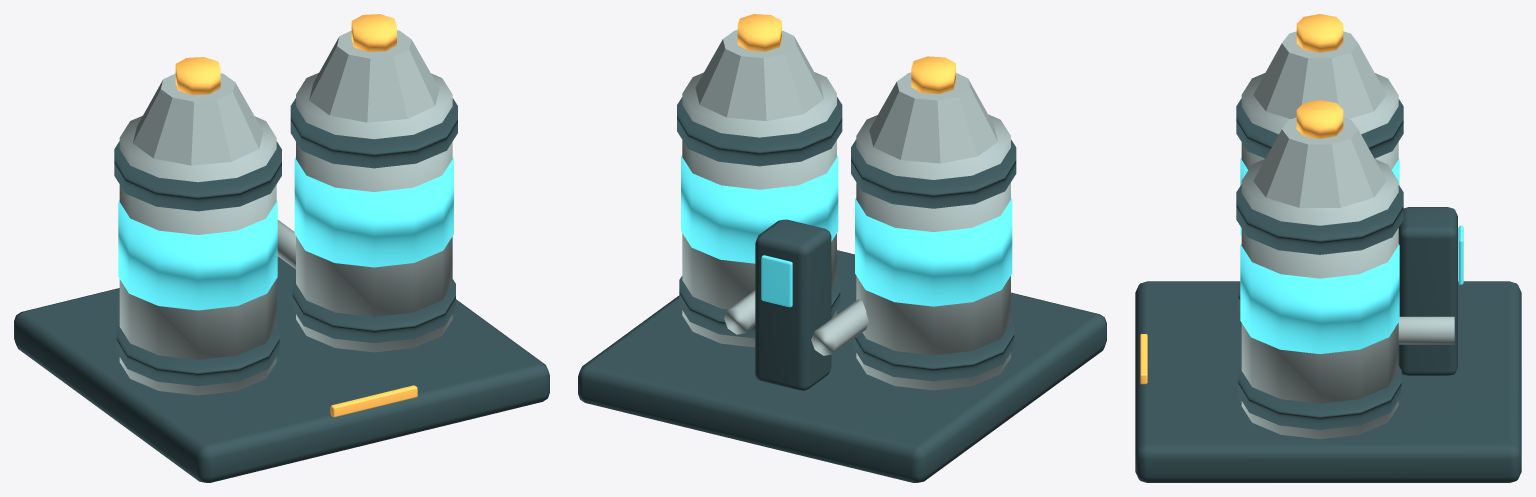
File: crystal-silo.glb
3 renders of one model, left to right at view 1: azimuth 30°, elevation 25°; view 2: azimuth 150°, elevation 25°; view 3: azimuth 270°, elevation 25°, orthographic.
Parts seen in each view (by area): view 1: Reinforced silo foundation, Armored storage vessel, Crystal level window, Vent beacon; view 2: Reinforced silo foundation, Armored storage vessel, Crystal level window, Vent beacon; view 3: Reinforced silo foundation, Armored storage vessel, Crystal level window, Vent beacon.
Boxes of the visible parts, left/top/right/bottom form: Reinforced silo foundation: left=14, top=98, right=549, bottom=482; Armored storage vessel: left=119, top=30, right=452, bottom=395; Crystal level window: left=118, top=157, right=453, bottom=310; Vent beacon: left=175, top=14, right=417, bottom=417; Reinforced silo foundation: left=578, top=97, right=1106, bottom=482; Armored storage vessel: left=682, top=30, right=1010, bottom=390; Crystal level window: left=681, top=155, right=1012, bottom=307; Vent beacon: left=737, top=14, right=955, bottom=93; Reinforced silo foundation: left=1135, top=98, right=1521, bottom=482; Armored storage vessel: left=1241, top=31, right=1454, bottom=439; Crystal level window: left=1240, top=157, right=1463, bottom=353; Vent beacon: left=1140, top=14, right=1343, bottom=384.
Size of the model in its own units: 1.92 by 1.74 by 1.82.
